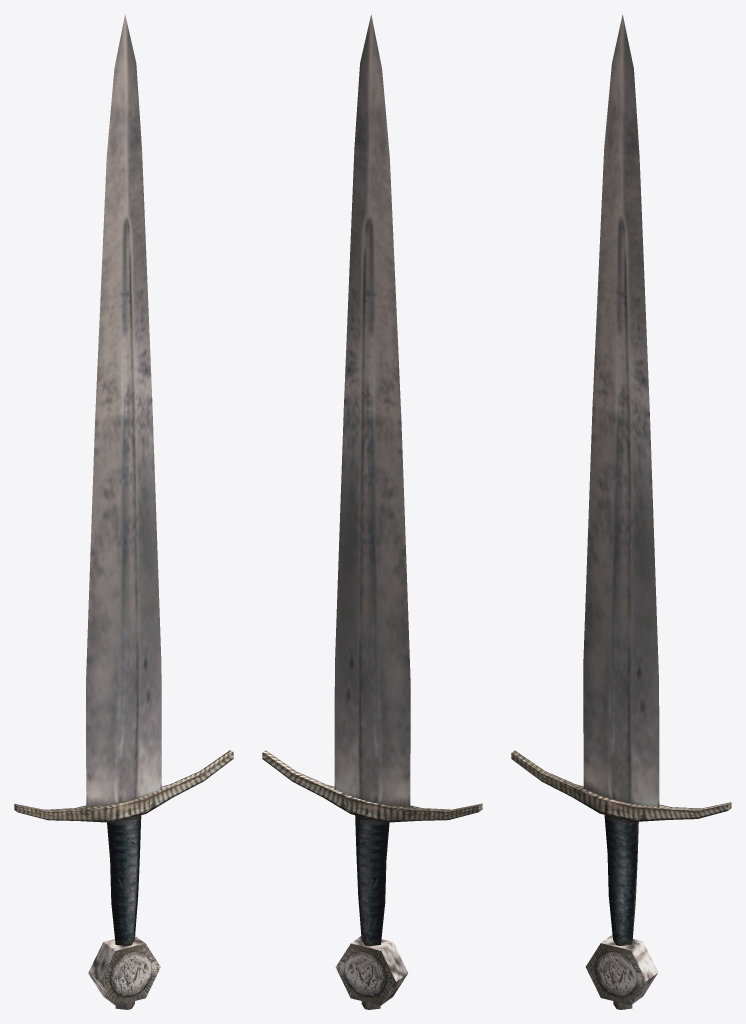
Rendered from broadsword.glb.
The picture shows the model from 3 angles, left to right: view 1: azimuth 30°, elevation 25°; view 2: azimuth 150°, elevation 25°; view 3: azimuth 330°, elevation 25°; orthographic projection.
Visible parts, largest first — view 1: Broadsword; view 2: Broadsword; view 3: Broadsword.
Part boxes in pixels (x1,y1,x2,y2): Broadsword: (14, 14, 233, 1009); Broadsword: (262, 15, 482, 1009); Broadsword: (511, 15, 731, 1009).
Bounding box in the file's own units: 0.2282 × 1 × 0.0225.
1 material, 1 textured.
